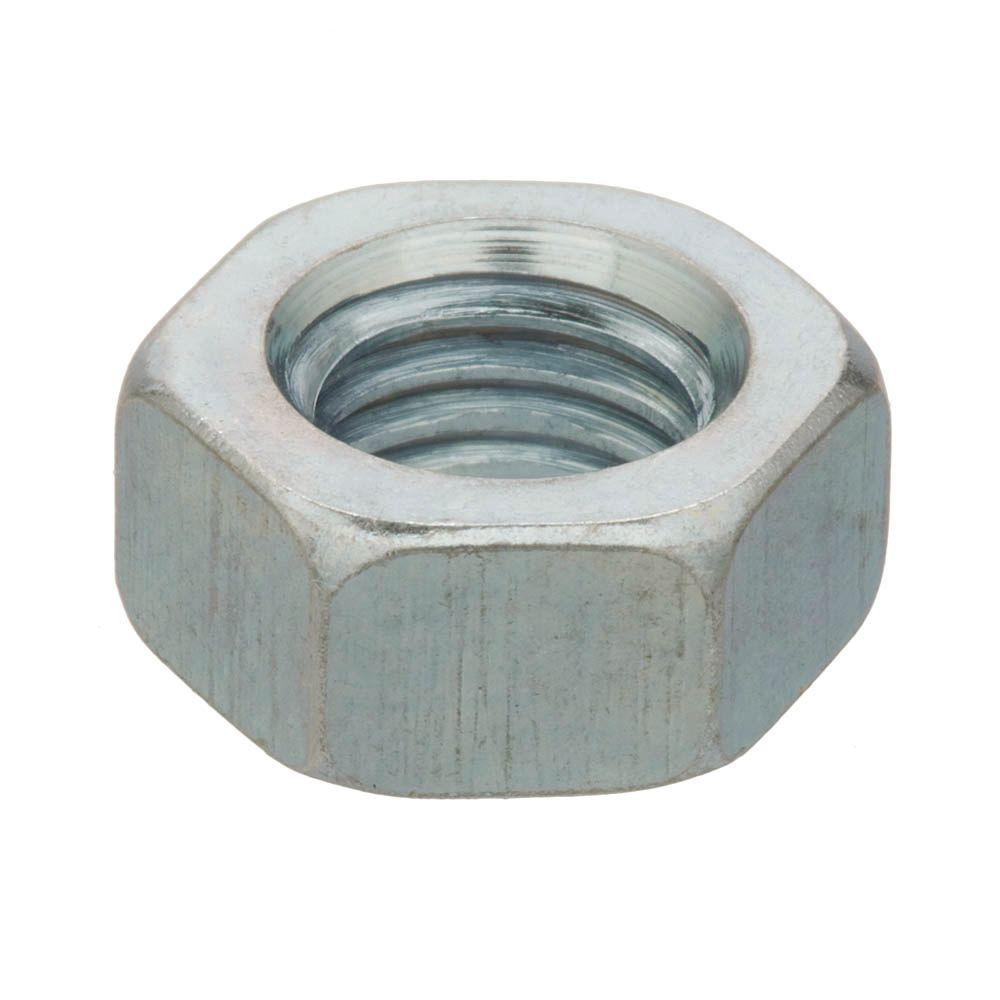hex nut: (67, 152, 923, 852)
